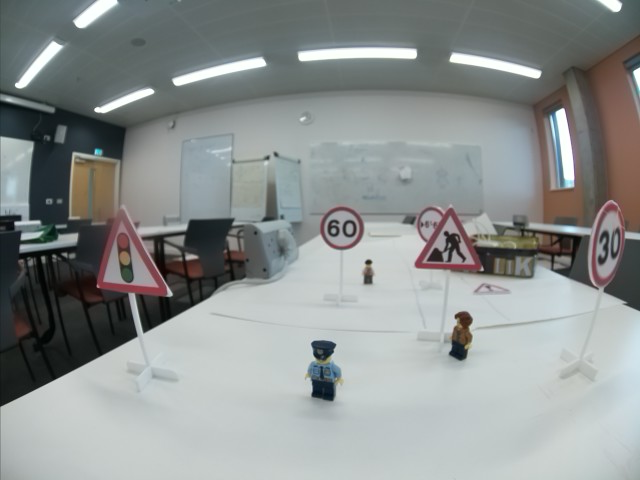30mph: (589, 202, 628, 288)
60mph: (320, 206, 362, 250)
6ft6: (417, 206, 443, 243)
Lego Man: (304, 340, 347, 400), (447, 308, 478, 360), (359, 258, 377, 287)
Roadworks: (415, 205, 485, 270)
Traffic lights: (92, 210, 175, 295)
Warning: (473, 281, 510, 297)
